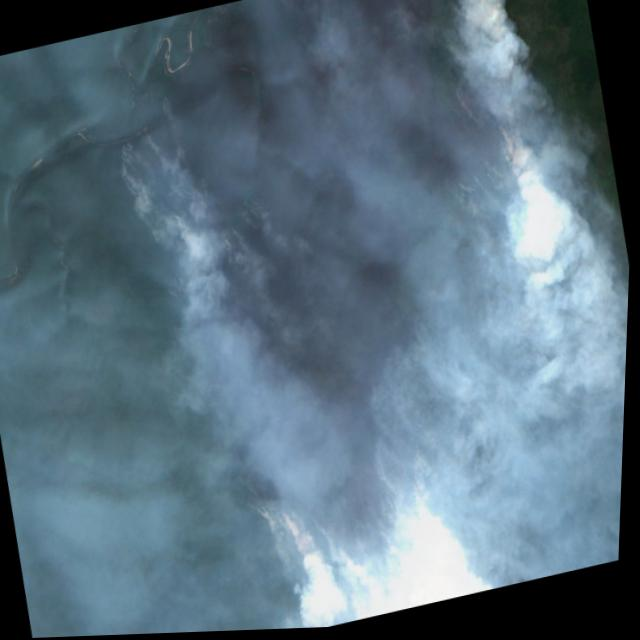fire: (217, 399, 473, 633), (103, 94, 292, 327), (395, 0, 546, 222)
